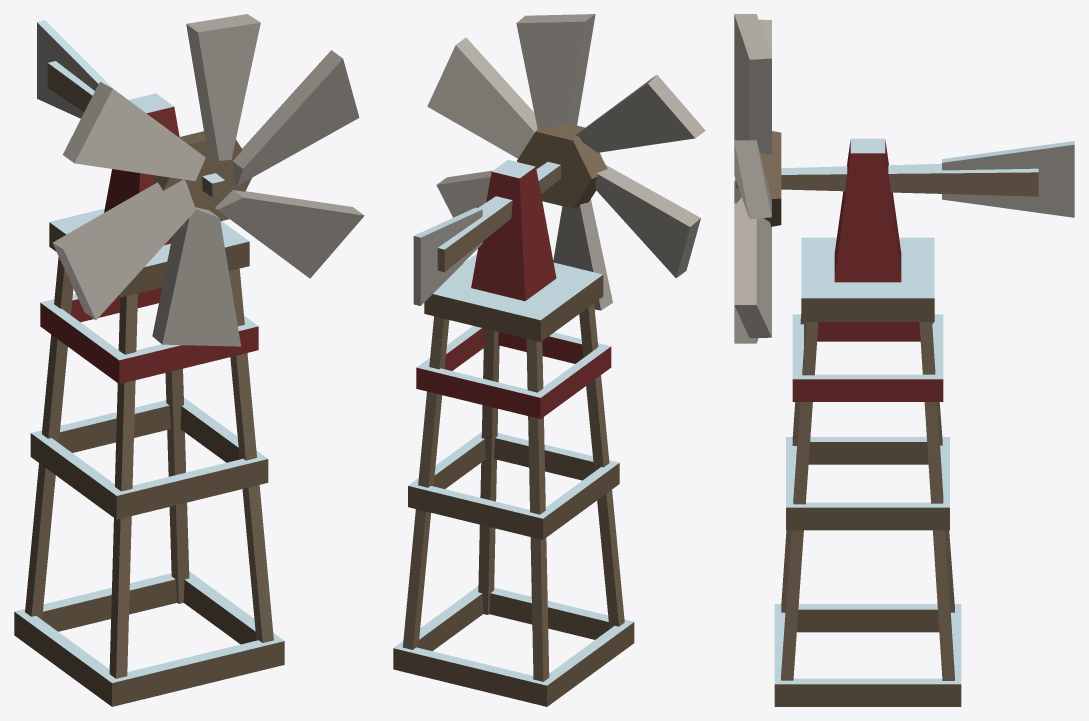
File: SM_Bld_Western_Windmill_01_Snow.fbx
The picture shows the model from 3 angles, left to right: view 1: azimuth 30°, elevation 25°; view 2: azimuth 150°, elevation 25°; view 3: azimuth 270°, elevation 25°; orthographic projection. The views are drawn at different scales.
Parts seen in each view (by area): view 1: SM_Bld_Western_Windmill_01_Snow, SM_Bld_Western_Windmill_Blades_01_Snow, SM_Bld_Western_Windmill_Top_01_Snow; view 2: SM_Bld_Western_Windmill_01_Snow, SM_Bld_Western_Windmill_Blades_01_Snow, SM_Bld_Western_Windmill_Top_01_Snow; view 3: SM_Bld_Western_Windmill_01_Snow, SM_Bld_Western_Windmill_Top_01_Snow, SM_Bld_Western_Windmill_Blades_01_Snow.
Boxes of the visible parts, left/top/right/bottom form: SM_Bld_Western_Windmill_01_Snow: left=14, top=208, right=284, bottom=706; SM_Bld_Western_Windmill_Blades_01_Snow: left=52, top=14, right=364, bottom=346; SM_Bld_Western_Windmill_Top_01_Snow: left=37, top=20, right=224, bottom=244; SM_Bld_Western_Windmill_01_Snow: left=393, top=253, right=634, bottom=706; SM_Bld_Western_Windmill_Blades_01_Snow: left=427, top=14, right=705, bottom=310; SM_Bld_Western_Windmill_Top_01_Snow: left=413, top=160, right=560, bottom=305; SM_Bld_Western_Windmill_01_Snow: left=774, top=237, right=961, bottom=706; SM_Bld_Western_Windmill_Top_01_Snow: left=736, top=138, right=1074, bottom=282; SM_Bld_Western_Windmill_Blades_01_Snow: left=734, top=14, right=781, bottom=343.
Size of the model in its own units: 85.01 by 185 by 88.83.
Materials: 1 (1 with a texture image).
